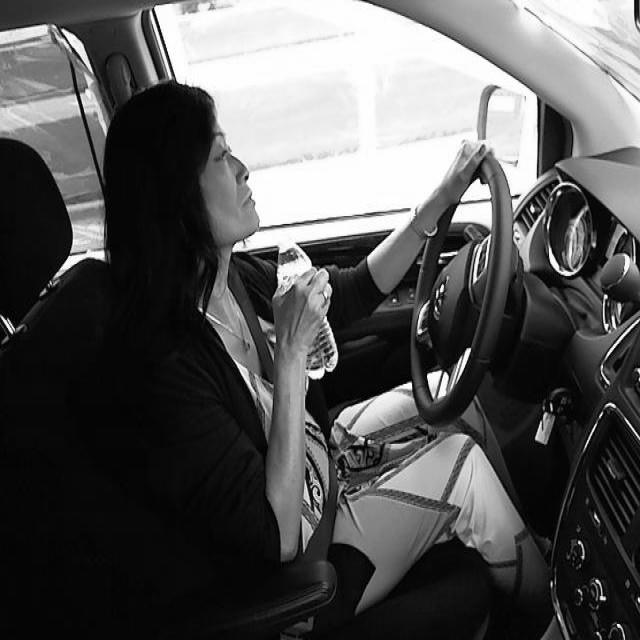Drinking: (267, 225, 340, 379)
